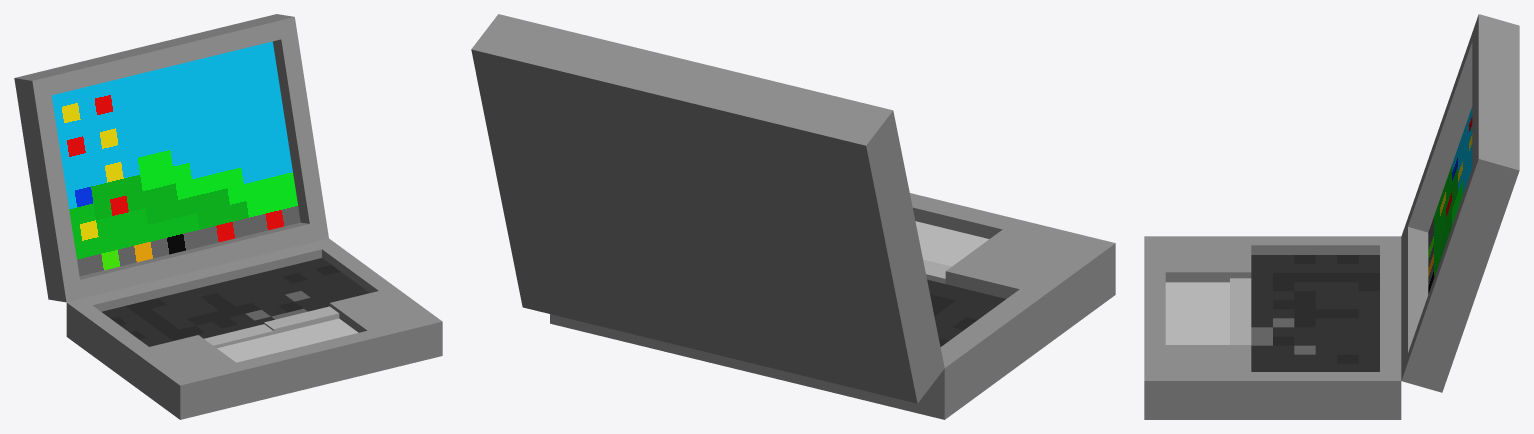
The picture shows the model from 3 angles, left to right: view 1: azimuth 30°, elevation 25°; view 2: azimuth 150°, elevation 25°; view 3: azimuth 270°, elevation 25°; orthographic projection. The views are drawn at different scales.
Parts seen in each view (by area): view 1: cube (×15); view 2: cube (×10); view 3: cube (×15).
Part boxes in pixels (<box>): cube (×15): <box>14,14,442,419</box>; cube (×10): <box>471,14,1115,419</box>; cube (×15): <box>1144,14,1519,419</box>.
Bounding box in the file's own units: 1 × 0.8403 × 1.09.
2 materials, 2 textured.
